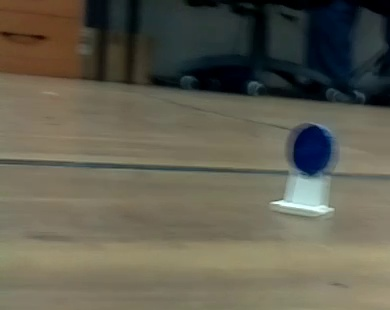circle: (262, 120, 348, 222)
